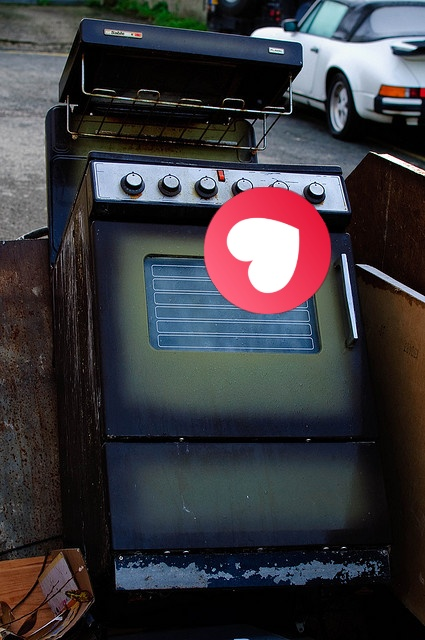love: (204, 187, 331, 314)
